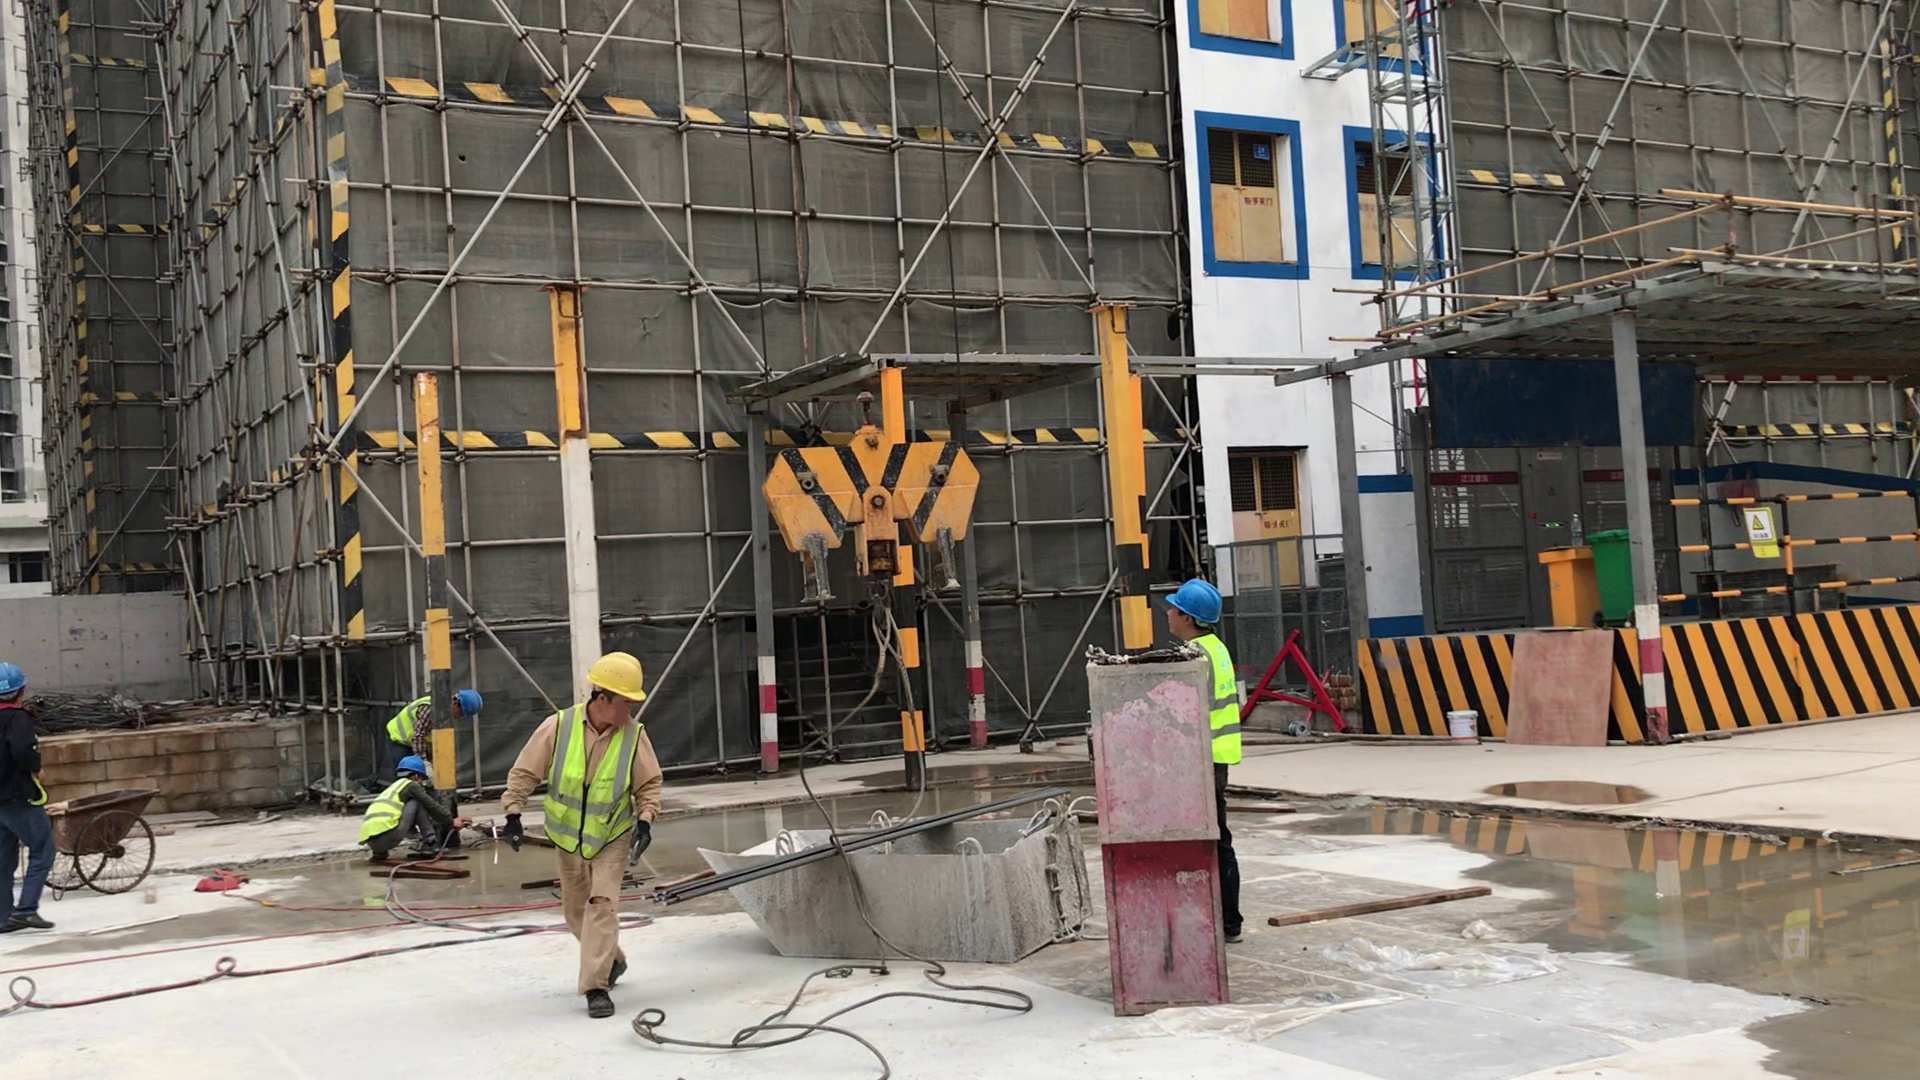fence: (1658, 492, 1920, 626)
handcart: (35, 782, 200, 899)
helmet: (1154, 573, 1233, 631), (581, 651, 656, 711), (2, 654, 38, 701), (451, 680, 493, 718), (388, 746, 438, 777)
hook: (749, 372, 1026, 699)
hopper: (699, 800, 1094, 978)
person: (1083, 570, 1292, 956), (496, 650, 700, 1024), (1, 643, 85, 953), (365, 665, 501, 785), (359, 745, 467, 893)
rebar: (635, 807, 1018, 926)
slogan: (1733, 497, 1784, 566)
vest: (541, 697, 644, 861), (1163, 634, 1274, 778), (344, 773, 424, 857), (375, 687, 463, 755)
